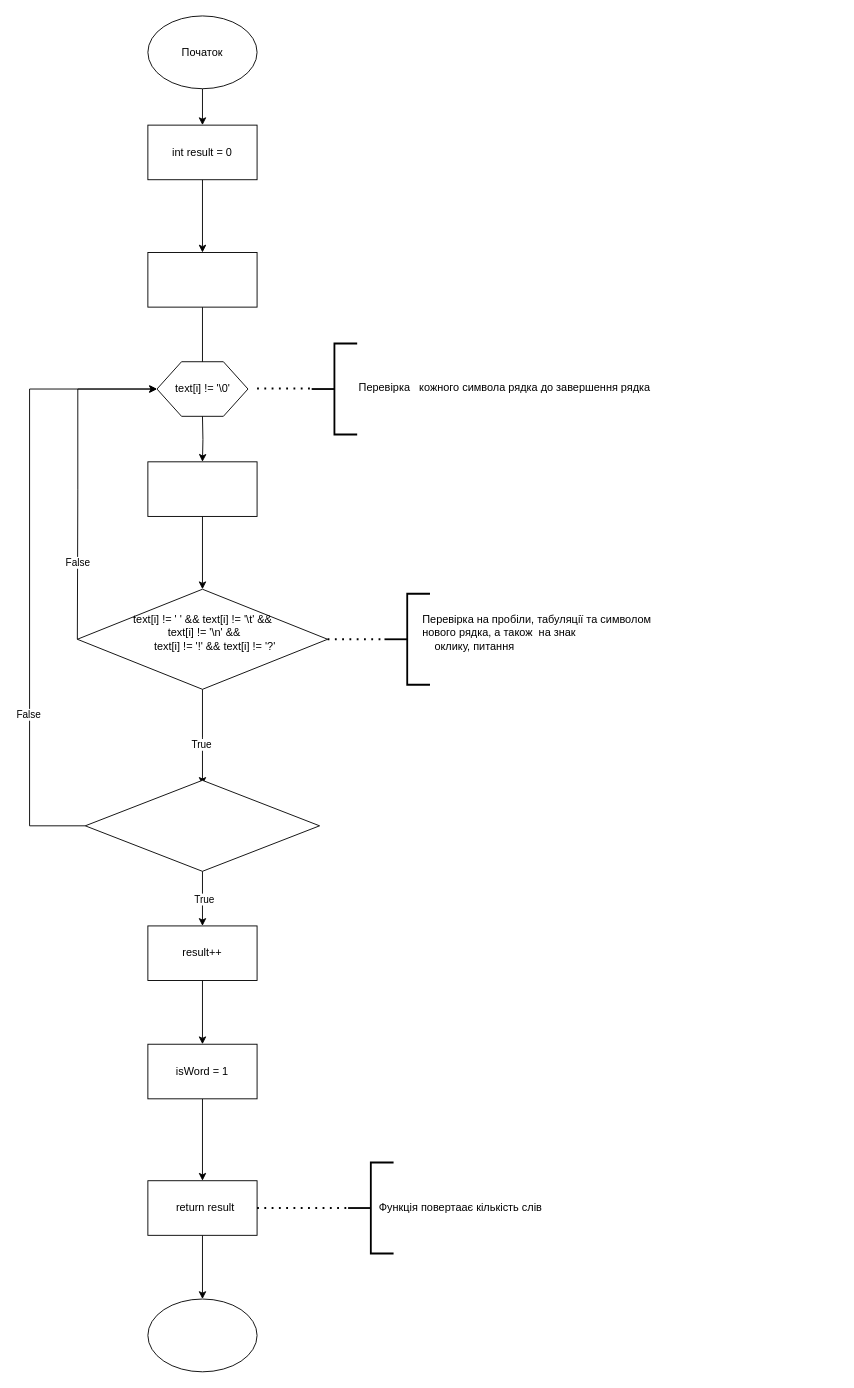
Some shapes in this 854 by 1388 pixel diagram are drawn without their labels. The box of each missing label's shape, as (x1, y1, x2, y2) in pixels:
!isWord: (84, 779, 320, 871)
i++: (147, 461, 257, 516)
int isWord = 0: (147, 252, 257, 307)
Кінець: (147, 1298, 257, 1372)
